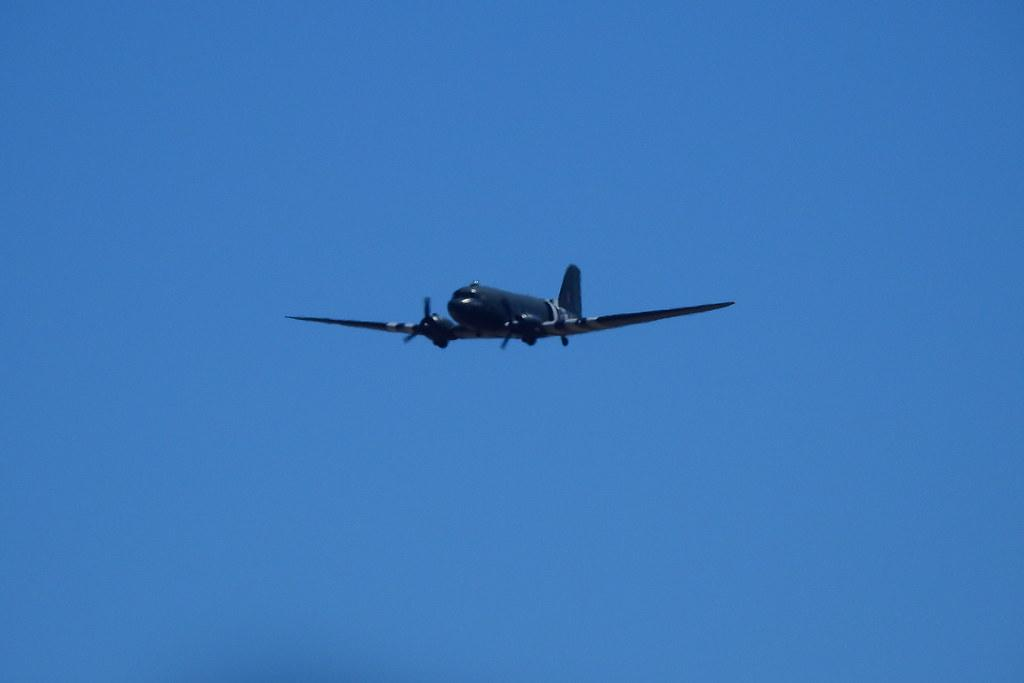plane: (284, 263, 736, 351)
